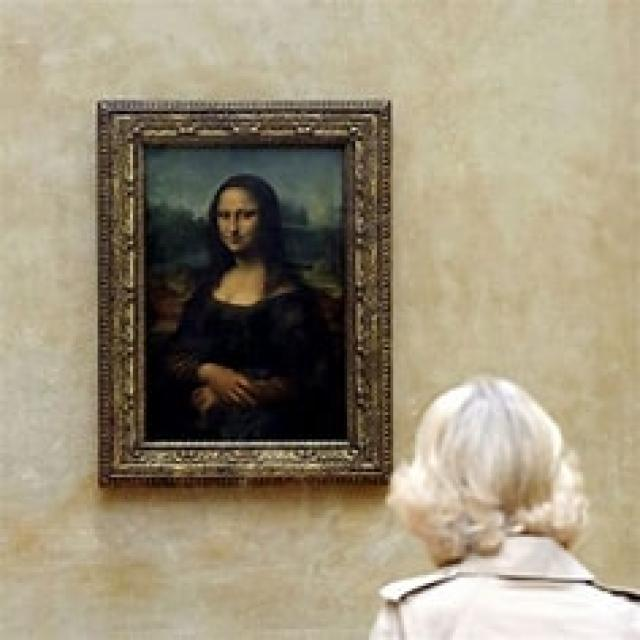monalisa: (129, 117, 368, 457)
